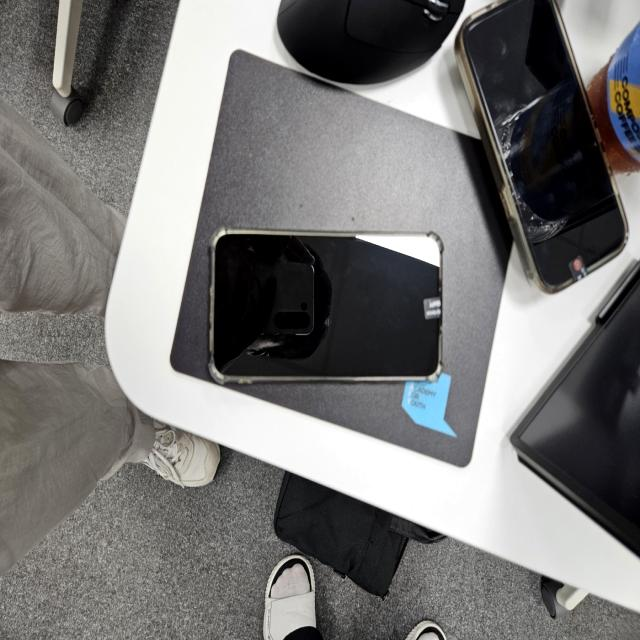phone: (455, 0, 629, 286), (206, 225, 445, 386)
sticker: (568, 255, 586, 283), (423, 296, 442, 320)
